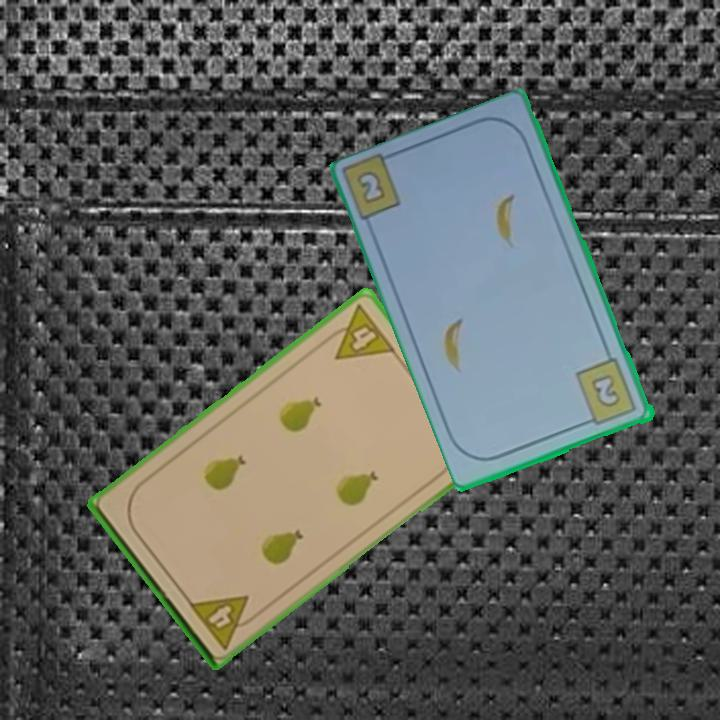2b: (573, 355, 641, 429), (352, 167, 390, 208)
4p: (319, 301, 399, 363), (185, 591, 263, 652)
